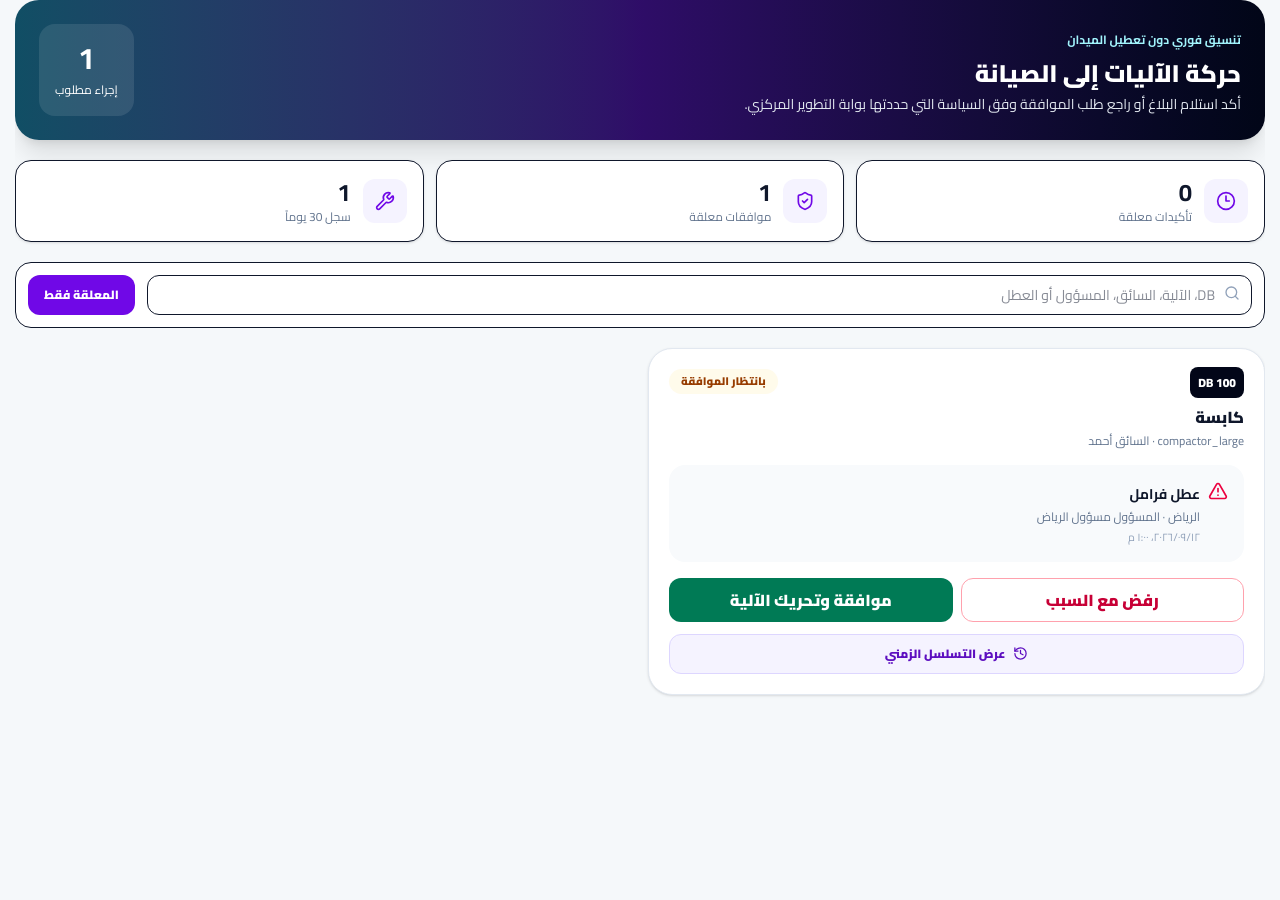
Test: تنسيق الكراج لحركات الصيانة › يعرض للكراج التسلسل الزمني الكامل للحالة
Click the button "عرض التسلسل الزمني" at (956, 654), box [669, 634, 1244, 674]
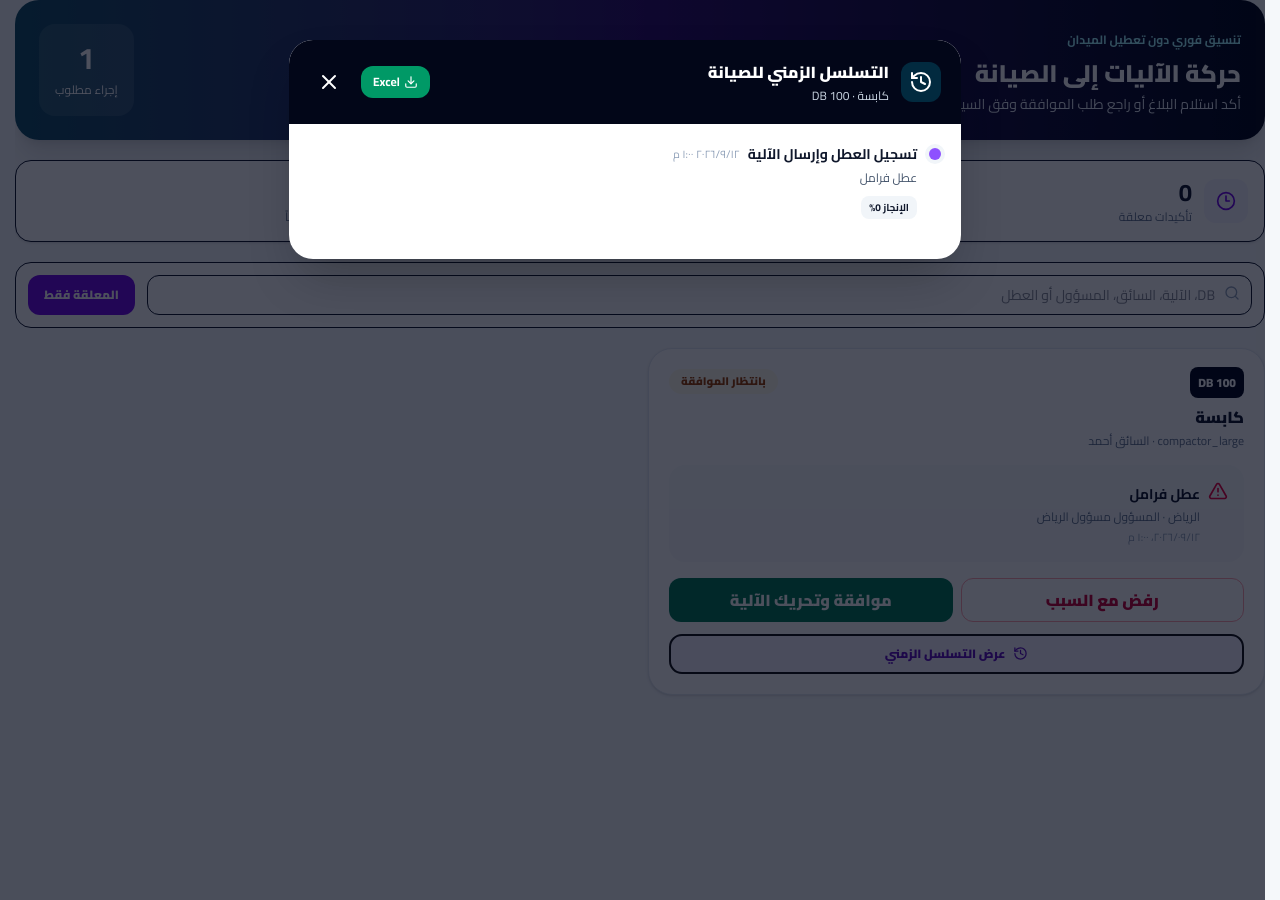
Now the text "تسجيل العطل وإرسال الآلية" is shown, box [748, 144, 917, 164]
